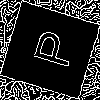P: (24, 25, 76, 71)
